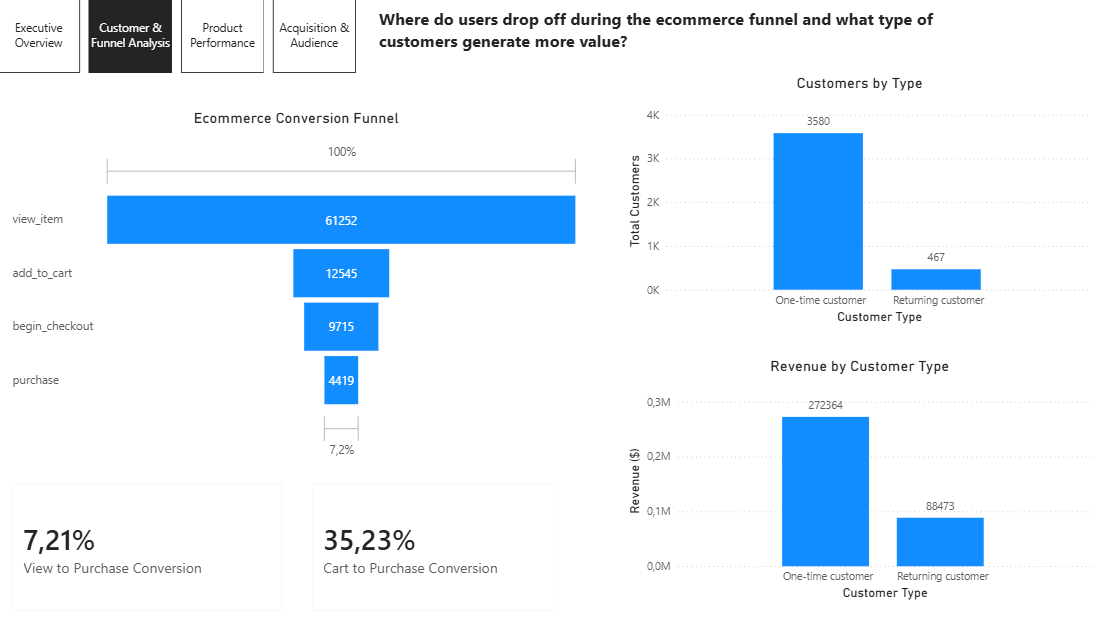

The dashboard page shown, as its layout file describes it:
{"tool":"powerbi","page":{"name":"Customer & Funnel Analysis","canvas":[1280,720],"ordinal":1},"visuals":[{"type":"textbox","box":[431.7,8.3,731.7,75],"z":0},{"type":"funnel","title":"Ecommerce Conversion Funnel","fields":{"Category":["funnel_metrics.event_name"],"Y":["Sum(funnel_metrics.users)"]},"box":[13.3,128.3,658.3,406.7],"z":1000},{"type":"clusteredColumnChart","title":"Customers by Type","fields":{"Category":["customer_metrics.customer_type"],"Y":["customer_metrics.Total Customers"]},"box":[715.7,88.6,540.7,290.9],"z":2000},{"type":"clusteredColumnChart","title":"Revenue by Customer Type","fields":{"Category":["customer_metrics.customer_type"],"Y":["Sum(customer_metrics.revenue)"]},"box":[715.7,412.9,540.7,282.7],"z":3000},{"type":"cardVisual","fields":{"Data":["funnel_metrics.View to Purchase Conversion"]},"box":[0,540,343.3,180],"z":4000},{"type":"cardVisual","fields":{"Data":["funnel_metrics.Cart to Purchase Conversion"]},"box":[343.3,540,315,180],"z":5000},{"type":"pageNavigator","box":[0,0,411.7,88.3],"z":5001}]}

Visuals, with their boxes on the page's 1280x720 design canvas (x1, y1, x2, y2). These are canvas units, not pixel positions in the 1114x624 screenshot, which may show the page scaled, cropped or inside an application window:
textbox: {"x1": 432, "y1": 8, "x2": 1163, "y2": 83}
"Ecommerce Conversion Funnel" funnel: {"x1": 13, "y1": 128, "x2": 672, "y2": 535}
"Customers by Type" clusteredColumnChart: {"x1": 716, "y1": 89, "x2": 1256, "y2": 380}
"Revenue by Customer Type" clusteredColumnChart: {"x1": 716, "y1": 413, "x2": 1256, "y2": 696}
cardVisual - funnel_metrics.View to Purchase Conversion: {"x1": 0, "y1": 540, "x2": 343, "y2": 720}
cardVisual - funnel_metrics.Cart to Purchase Conversion: {"x1": 343, "y1": 540, "x2": 658, "y2": 720}
pageNavigator: {"x1": 0, "y1": 0, "x2": 412, "y2": 88}
